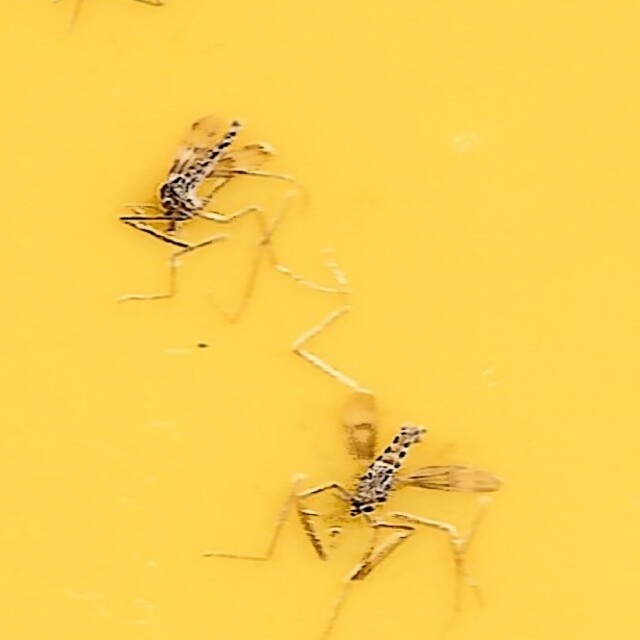Nematocera: (307, 380, 501, 536), (139, 104, 282, 251)
